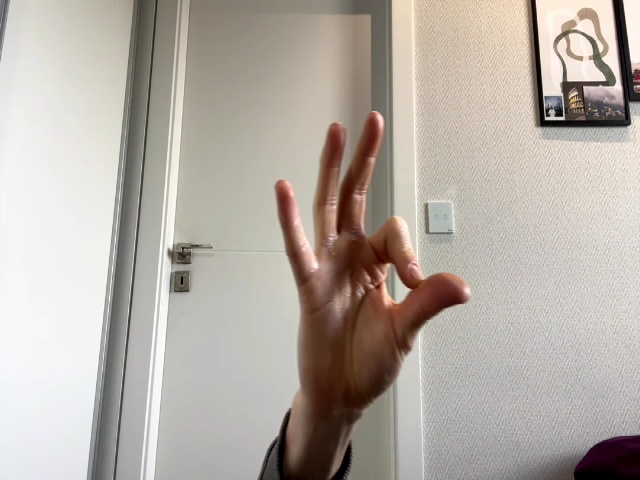S: (275, 111, 469, 410)
